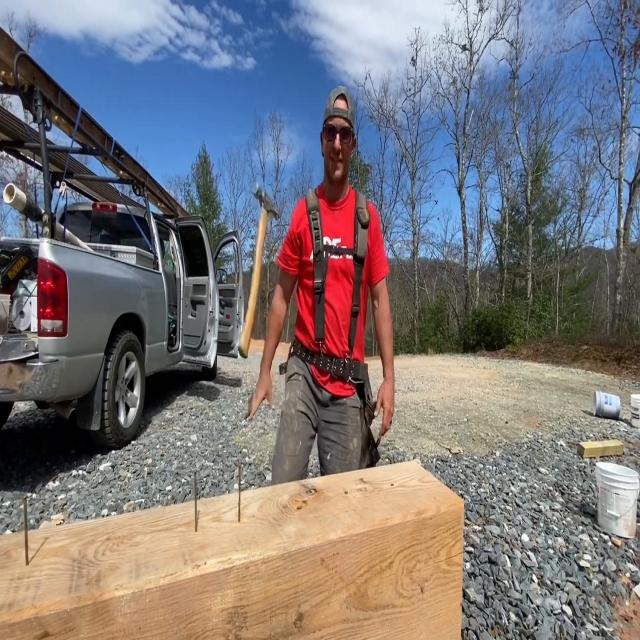hammer: (236, 180, 280, 361)
